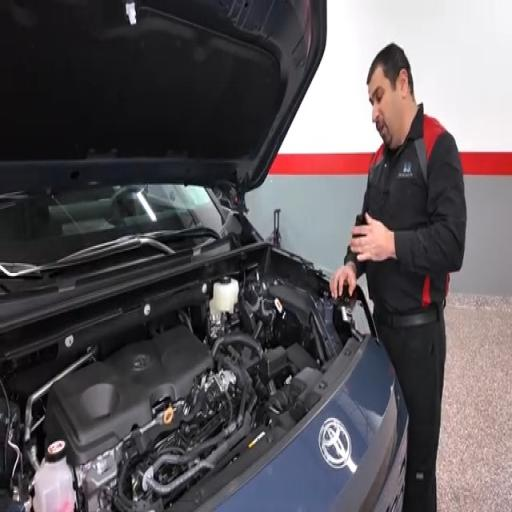bumper: (217, 340, 407, 511)
emblem: (319, 419, 351, 469), (132, 353, 149, 371)
hood: (0, 0, 326, 193)
windshield: (0, 184, 223, 264)
